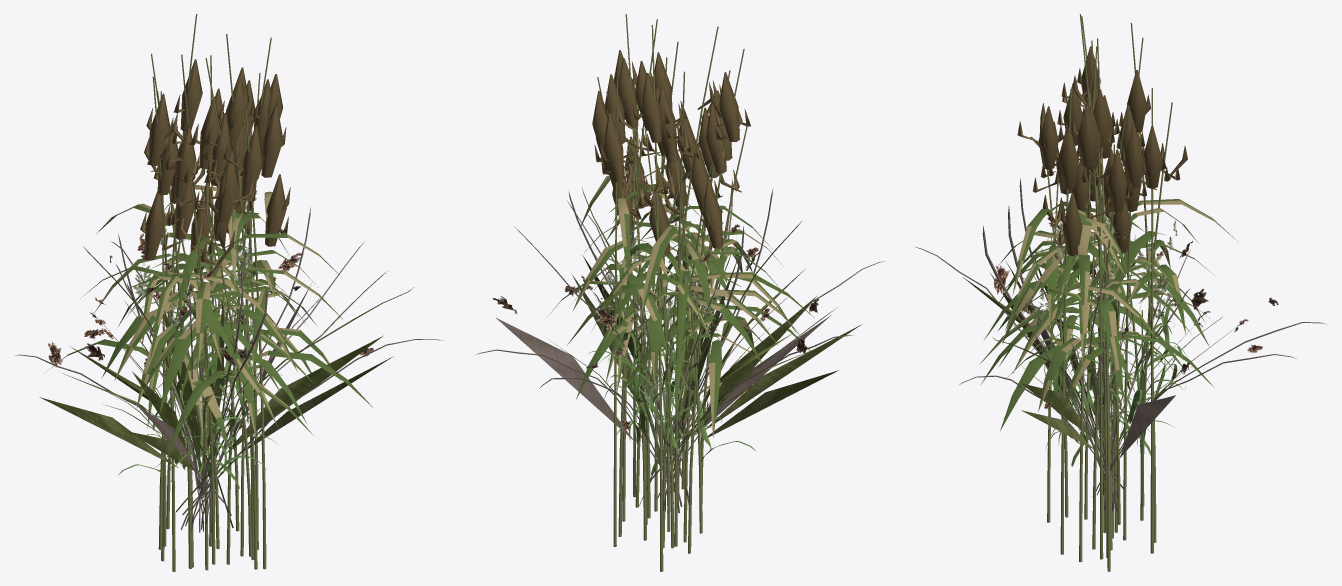
The model's file is vegetation_06.glb.
3 views of the same model, side by side, from view 1: azimuth 30°, elevation 25°; view 2: azimuth 150°, elevation 25°; view 3: azimuth 270°, elevation 25° (orthographic). The views are drawn at different scales.
Parts seen in each view (by area): view 1: prototype_049, prototype_055, prototype_048, prototype_052, prototype_054, prototype_050, prototype_051, prototype_053; view 2: prototype_048, prototype_055, prototype_052, prototype_049, prototype_054, prototype_050, prototype_051, prototype_053; view 3: prototype_055, prototype_049, prototype_048, prototype_052, prototype_054, prototype_050, prototype_053, prototype_051.
Boxes of the visible parts, bbox=[...] form: prototype_049: bbox=[96, 34, 372, 569]; prototype_055: bbox=[140, 53, 342, 568]; prototype_048: bbox=[45, 14, 342, 571]; prototype_052: bbox=[15, 207, 442, 532]; prototype_054: bbox=[93, 34, 327, 562]; prototype_050: bbox=[117, 190, 276, 488]; prototype_051: bbox=[88, 264, 320, 498]; prototype_053: bbox=[132, 228, 265, 482]; prototype_048: bbox=[567, 14, 814, 571]; prototype_055: bbox=[548, 52, 810, 546]; prototype_052: bbox=[474, 177, 885, 513]; prototype_049: bbox=[577, 19, 796, 536]; prototype_054: bbox=[578, 19, 784, 536]; prototype_050: bbox=[588, 171, 756, 497]; prototype_051: bbox=[548, 254, 788, 475]; prototype_053: bbox=[600, 207, 721, 457]; prototype_055: bbox=[998, 37, 1191, 553]; prototype_049: bbox=[979, 38, 1237, 571]; prototype_048: bbox=[981, 14, 1214, 557]; prototype_052: bbox=[914, 178, 1327, 511]; prototype_054: bbox=[1016, 40, 1212, 571]; prototype_050: bbox=[1029, 212, 1186, 497]; prototype_053: bbox=[1031, 220, 1186, 449]; prototype_051: bbox=[1007, 235, 1248, 474].
Bounding box in the file's own units: 2.2 × 3.25 × 2.3.
Materials: 11 (7 with a texture image).
